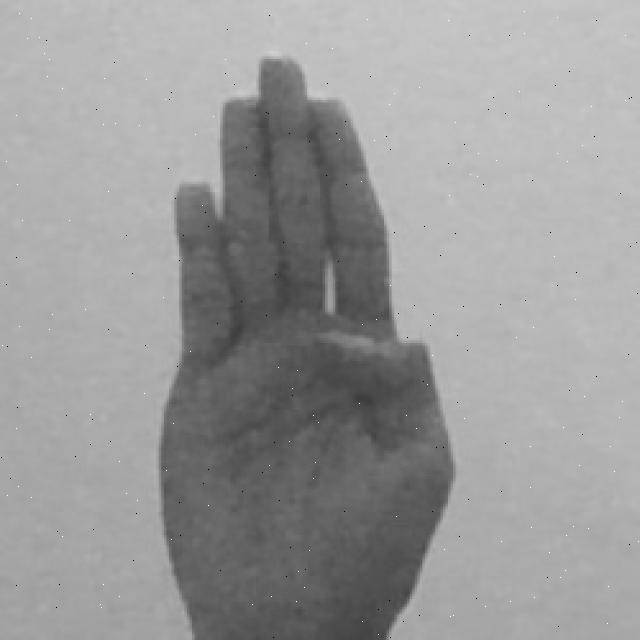B: (154, 55, 456, 640)
